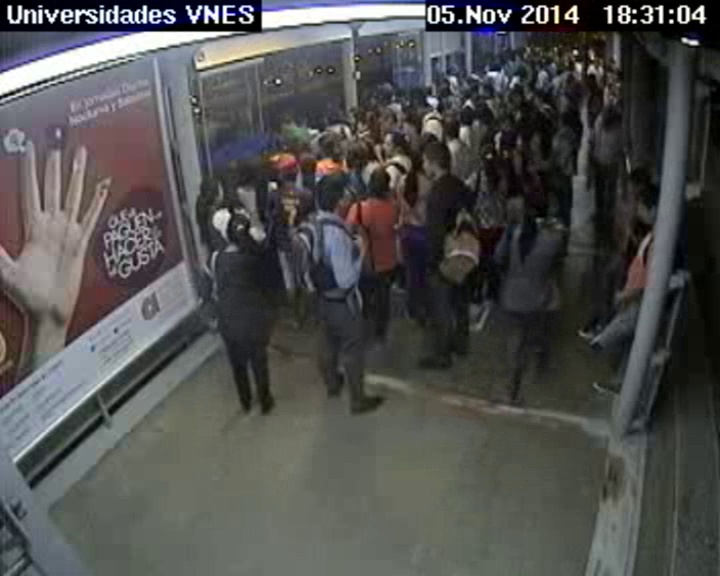person: (315, 176, 349, 215), (634, 192, 670, 224), (421, 143, 451, 176), (520, 189, 549, 220), (226, 212, 255, 242), (197, 177, 226, 207), (625, 169, 652, 199), (381, 130, 408, 157), (347, 139, 373, 166), (367, 168, 393, 194), (236, 156, 262, 182), (374, 106, 399, 133), (316, 135, 342, 159), (475, 144, 499, 169), (403, 145, 426, 170), (278, 160, 301, 183), (349, 106, 370, 129), (407, 86, 428, 108), (376, 80, 397, 101), (440, 120, 460, 141), (520, 104, 540, 125), (599, 106, 619, 125), (559, 91, 578, 109), (471, 99, 490, 117), (411, 101, 430, 119), (475, 80, 492, 100), (508, 86, 526, 104), (583, 73, 599, 92), (458, 105, 474, 122), (556, 113, 572, 129), (532, 92, 547, 108), (496, 116, 511, 131), (487, 58, 503, 72), (613, 80, 624, 95), (448, 65, 460, 78), (602, 68, 613, 82), (515, 64, 527, 76), (440, 86, 452, 98), (531, 48, 542, 60), (460, 90, 471, 102), (513, 51, 523, 61), (554, 65, 564, 75), (586, 48, 596, 58), (592, 56, 601, 66), (546, 60, 555, 70), (605, 56, 614, 65), (561, 44, 569, 53), (524, 46, 532, 54), (567, 74, 575, 82), (562, 54, 570, 62), (567, 62, 575, 70), (552, 46, 559, 55)
